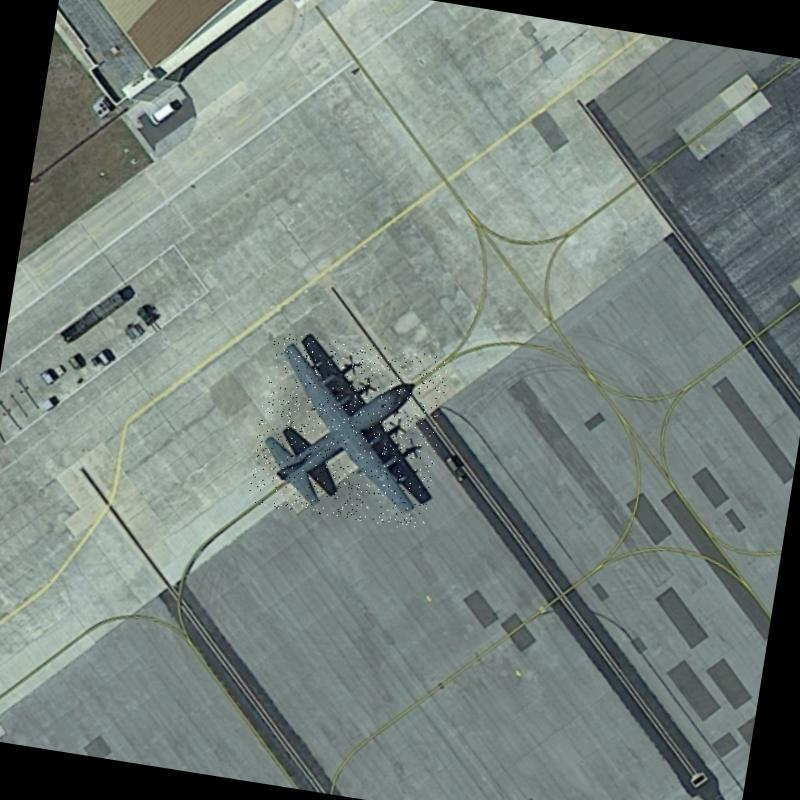A2: (246, 330, 450, 532)
